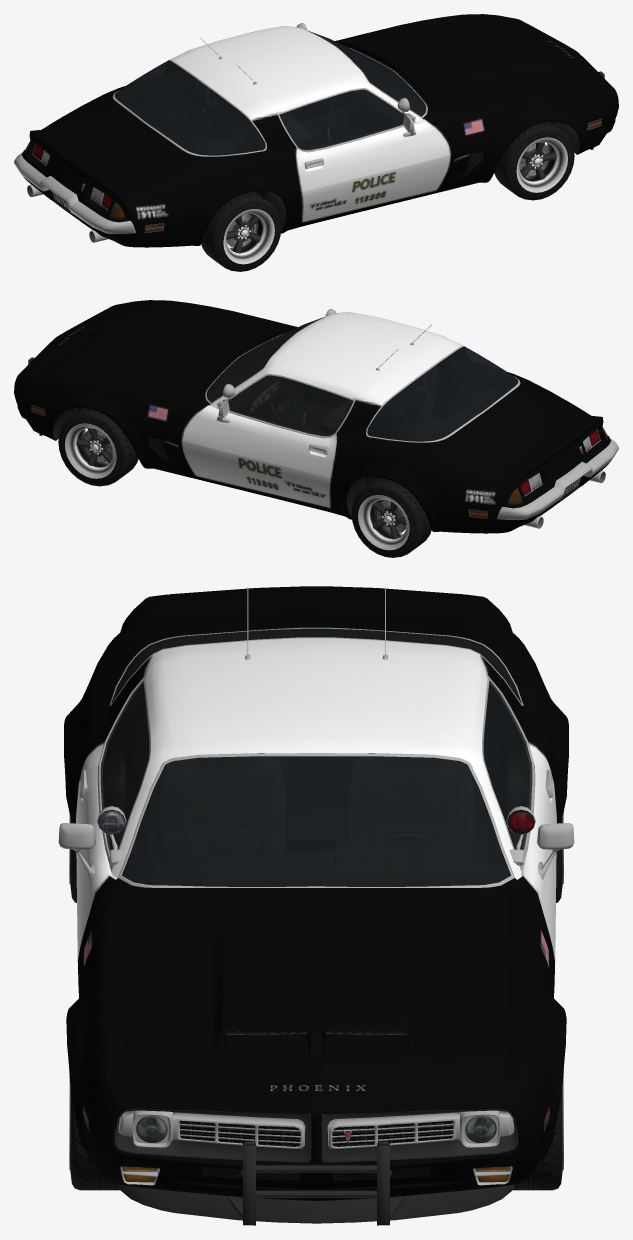
Rendered from phoenix71_police.glb.
The picture shows the model from 3 angles, top to bottom: view 1: azimuth 30°, elevation 25°; view 2: azimuth 150°, elevation 25°; view 3: azimuth 270°, elevation 25°; orthographic projection. The views are drawn at different scales.
Visible parts, largest first — view 1: Phoenix445_Body_Phoenix445_Bodymat_0, Phoenix445_Interior_UCB_Interiors_2_0, Phoenix445_Hood_Phoenix445_Bodymat_0, Phoenix445_Glass_rear_UCB_Lights_and_Glass_Transperent_0, Phoenix445_Trunkdoor_Phoenix445_Bodymat_0, Phoenix445_Glass_Passenger_UCB_Lights_and_Glass_Transperent_, Phoenix445_WheelStock_RR_RB1c_Tire_1k_0, Phoenix445_WheelStock_FR_RB1c_Tire_1k_0, Phoenix445_Bottom_UCB_BOTTOM_0, Phoenix445_Bumper_rear_UCB_BOTTOM_0, Phoenix445_Windshield_UCB_Lights_and_Glass_Transperent_0, Phoenix445_Taillights_Glass_UCB_Lights_and_Glass_Transperent; view 2: Phoenix445_Body_Phoenix445_Bodymat_0, Phoenix445_Hood_Phoenix445_Bodymat_0, Phoenix445_Interior_UCB_Interiors_2_0, Phoenix445_Glass_rear_UCB_Lights_and_Glass_Transperent_0, Phoenix445_Trunkdoor_Phoenix445_Bodymat_0, Phoenix445_Glass_Driver_UCB_Lights_and_Glass_Transperent_0, Phoenix445_WheelStock_RL_RB1c_Tire_1k_0, Phoenix445_WheelStock_FL_RB1c_Tire_1k_0, Phoenix445_Bottom_UCB_BOTTOM_0, Phoenix445_Bumper_rear_UCB_BOTTOM_0, Phoenix445_Windshield_UCB_Lights_and_Glass_Transperent_0, Phoenix445_Taillights_Glass_UCB_Lights_and_Glass_Transperent (+1 smaller); view 3: Phoenix445_Body_Phoenix445_Bodymat_0, Phoenix445_Hood_Phoenix445_Bodymat_0, Phoenix445_Interior_UCB_Interiors_2_0, Phoenix445_Windshield_UCB_Lights_and_Glass_Transperent_0, Phoenix445_Bottom_UCB_BOTTOM_0, Phoenix445_Trunkdoor_Phoenix445_Bodymat_0, Phoenix445_Bullbar_UCB_BOTTOM_0, Phoenix445_Glass_Driver_UCB_Lights_and_Glass_Transperent_0, Phoenix445_Glass_Passenger_UCB_Lights_and_Glass_Transperent_, Phoenix445_Glass_rear_UCB_Lights_and_Glass_Transperent_0, Phoenix445_WheelStock_FL_RB1c_Tire_1k_0, Phoenix445_WheelStock_FR_RB1c_Tire_1k_0 (+5 smaller).
Part boxes in pixels (x1=…): Phoenix445_Body_Phoenix445_Bodymat_0: x1=22, y1=14, x2=618, y2=247; Phoenix445_Interior_UCB_Interiors_2_0: x1=115, y1=47, x2=425, y2=155; Phoenix445_Hood_Phoenix445_Bodymat_0: x1=339, y1=18, x2=597, y2=111; Phoenix445_Glass_rear_UCB_Lights_and_Glass_Transperent_0: x1=114, y1=60, x2=265, y2=155; Phoenix445_Trunkdoor_Phoenix445_Bodymat_0: x1=34, y1=104, x2=177, y2=193; Phoenix445_Glass_Passenger_UCB_Lights_and_Glass_Transperent_: x1=279, y1=89, x2=404, y2=150; Phoenix445_WheelStock_RR_RB1c_Tire_1k_0: x1=201, y1=191, x2=281, y2=271; Phoenix445_WheelStock_FR_RB1c_Tire_1k_0: x1=494, y1=122, x2=574, y2=200; Phoenix445_Bottom_UCB_BOTTOM_0: x1=27, y1=27, x2=601, y2=242; Phoenix445_Bumper_rear_UCB_BOTTOM_0: x1=14, y1=152, x2=135, y2=234; Phoenix445_Windshield_UCB_Lights_and_Glass_Transperent_0: x1=308, y1=30, x2=426, y2=116; Phoenix445_Taillights_Glass_UCB_Lights_and_Glass_Transperent: x1=24, y1=141, x2=163, y2=232; Phoenix445_Body_Phoenix445_Bodymat_0: x1=14, y1=300, x2=610, y2=533; Phoenix445_Hood_Phoenix445_Bodymat_0: x1=35, y1=304, x2=293, y2=397; Phoenix445_Interior_UCB_Interiors_2_0: x1=207, y1=333, x2=517, y2=441; Phoenix445_Glass_rear_UCB_Lights_and_Glass_Transperent_0: x1=367, y1=346, x2=518, y2=441; Phoenix445_Trunkdoor_Phoenix445_Bodymat_0: x1=455, y1=390, x2=598, y2=479; Phoenix445_Glass_Driver_UCB_Lights_and_Glass_Transperent_0: x1=228, y1=375, x2=353, y2=436; Phoenix445_WheelStock_RL_RB1c_Tire_1k_0: x1=351, y1=477, x2=431, y2=557; Phoenix445_WheelStock_FL_RB1c_Tire_1k_0: x1=58, y1=408, x2=138, y2=486; Phoenix445_Bottom_UCB_BOTTOM_0: x1=31, y1=313, x2=605, y2=528; Phoenix445_Bumper_rear_UCB_BOTTOM_0: x1=497, y1=438, x2=618, y2=520; Phoenix445_Windshield_UCB_Lights_and_Glass_Transperent_0: x1=206, y1=317, x2=323, y2=402; Phoenix445_Taillights_Glass_UCB_Lights_and_Glass_Transperent: x1=469, y1=427, x2=608, y2=518; Phoenix445_Body_Phoenix445_Bodymat_0: x1=64, y1=594, x2=568, y2=1200; Phoenix445_Hood_Phoenix445_Bodymat_0: x1=122, y1=886, x2=510, y2=1079; Phoenix445_Interior_UCB_Interiors_2_0: x1=103, y1=629, x2=529, y2=951; Phoenix445_Windshield_UCB_Lights_and_Glass_Transperent_0: x1=122, y1=756, x2=510, y2=886; Phoenix445_Bottom_UCB_BOTTOM_0: x1=58, y1=627, x2=574, y2=1223; Phoenix445_Trunkdoor_Phoenix445_Bodymat_0: x1=169, y1=586, x2=463, y2=635; Phoenix445_Bullbar_UCB_BOTTOM_0: x1=228, y1=1141, x2=404, y2=1225; Phoenix445_Glass_Driver_UCB_Lights_and_Glass_Transperent_0: x1=483, y1=681, x2=532, y2=850; Phoenix445_Glass_Passenger_UCB_Lights_and_Glass_Transperent_: x1=100, y1=681, x2=149, y2=851; Phoenix445_Glass_rear_UCB_Lights_and_Glass_Transperent_0: x1=111, y1=628, x2=521, y2=702; Phoenix445_WheelStock_FL_RB1c_Tire_1k_0: x1=513, y1=1068, x2=563, y2=1190; Phoenix445_WheelStock_FR_RB1c_Tire_1k_0: x1=69, y1=1073, x2=119, y2=1190.
Size of the model in its own units: 4.98 by 1.51 by 2.09.
8 materials, 8 textured.
